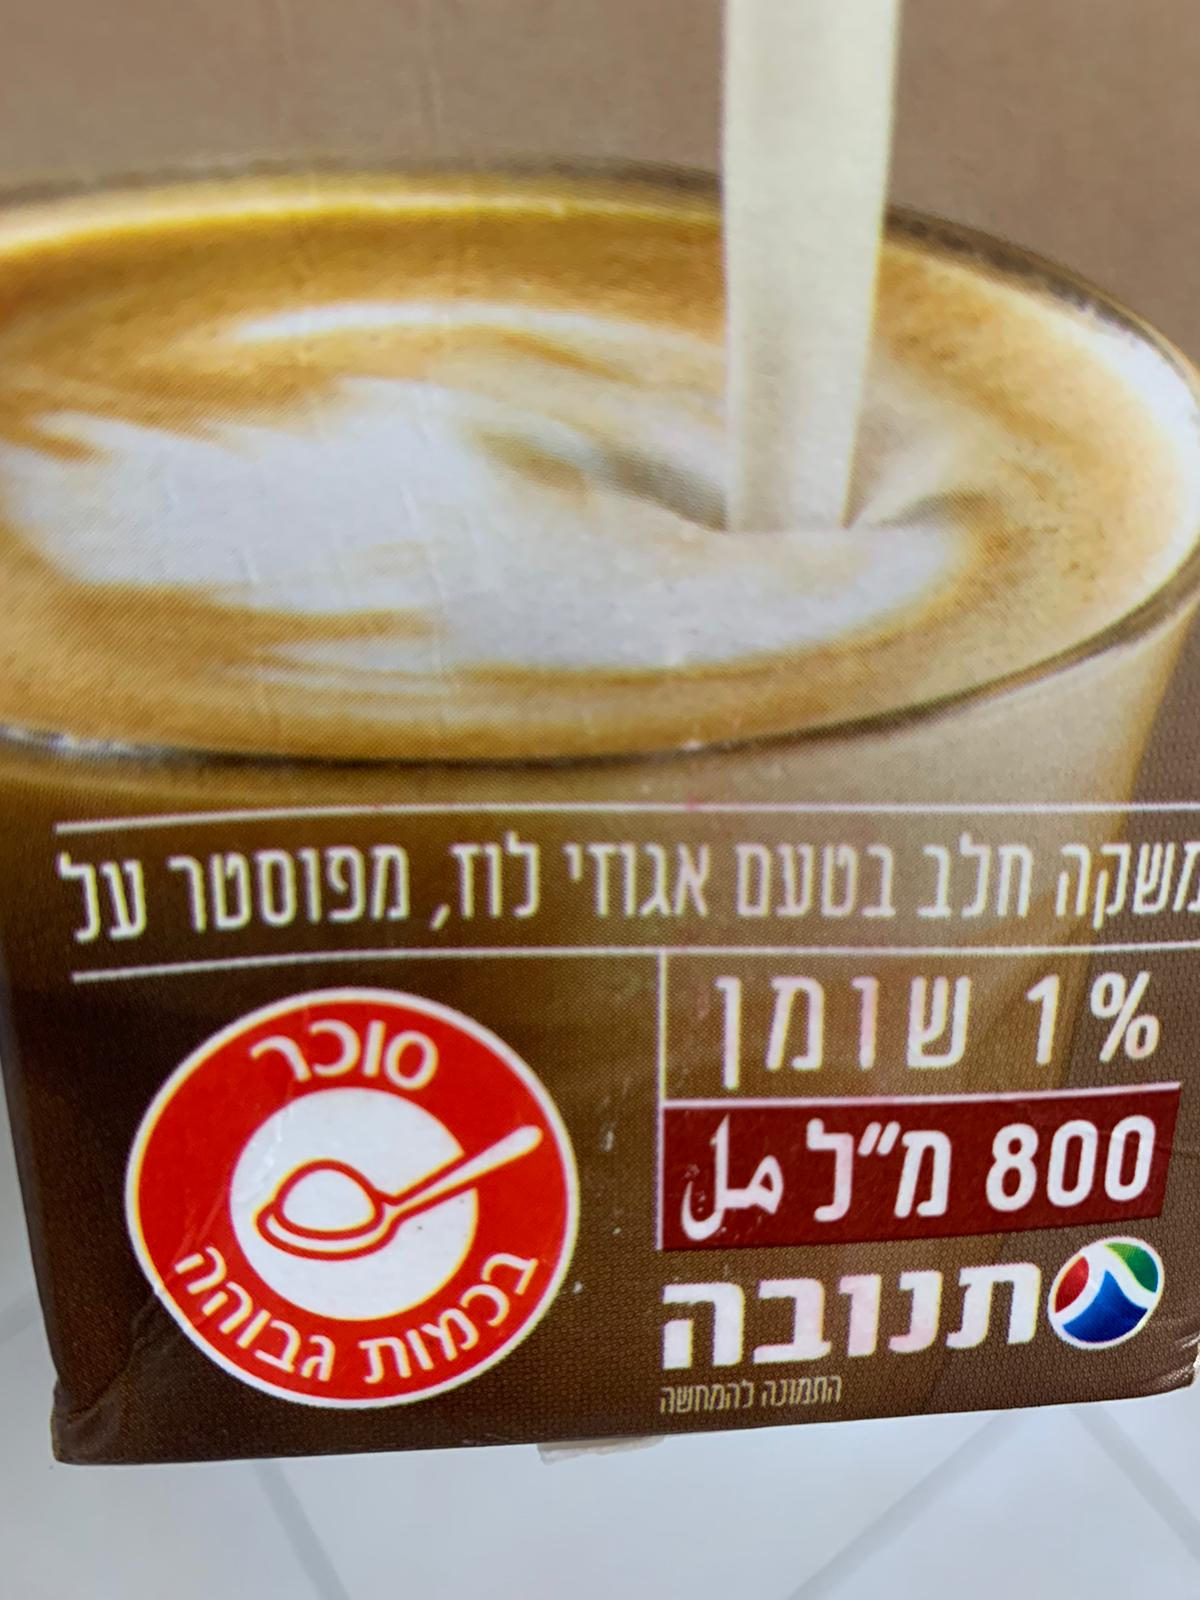sugar: (117, 981, 582, 1415)
